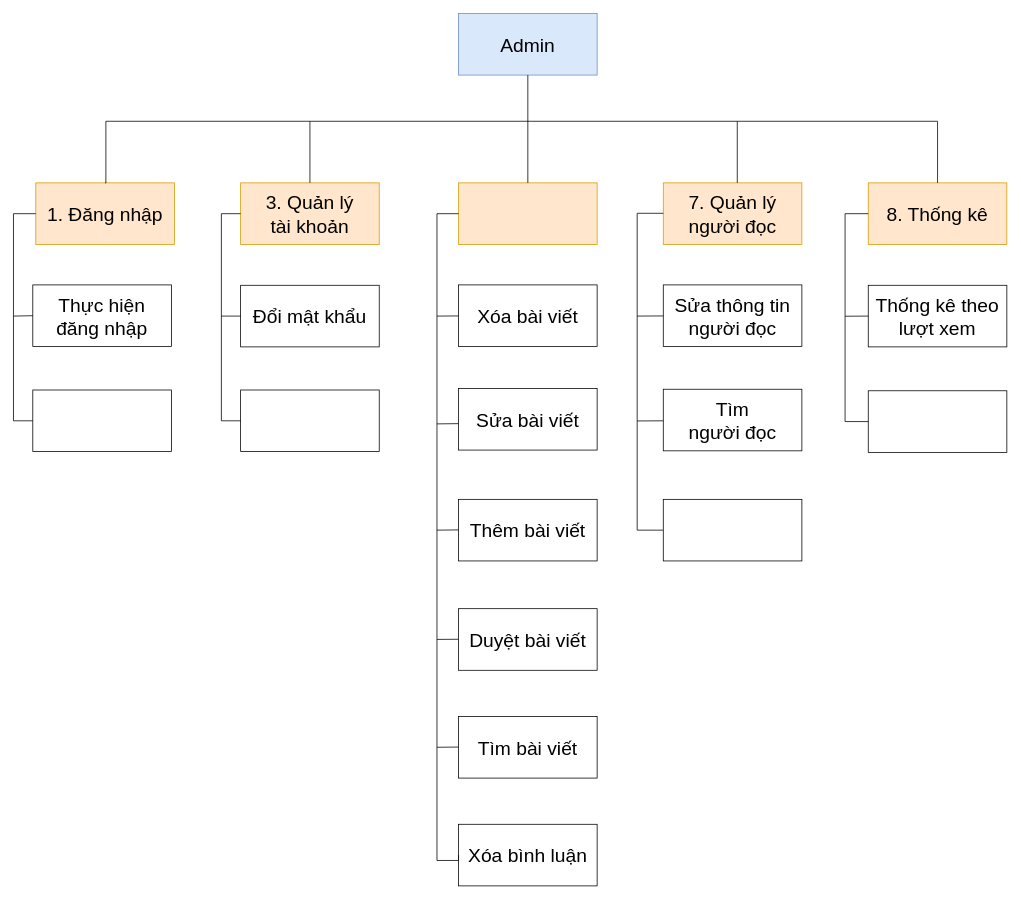
The diagram is 1021 pixels wide and 899 high, and some of its shapes have lost their labels. Each missing label, with the centre of its shape:
"4. Quản lý bài viết" belongs at point 527,213.
"Cập nhật trạng thái tài khoản" belongs at point 732,530.
"Lấy lại mật khẩu" belongs at point 101,420.
"Sửa thông tin" belongs at point 309,420.
"Thống kê theo người đăng" belongs at point 937,421.
